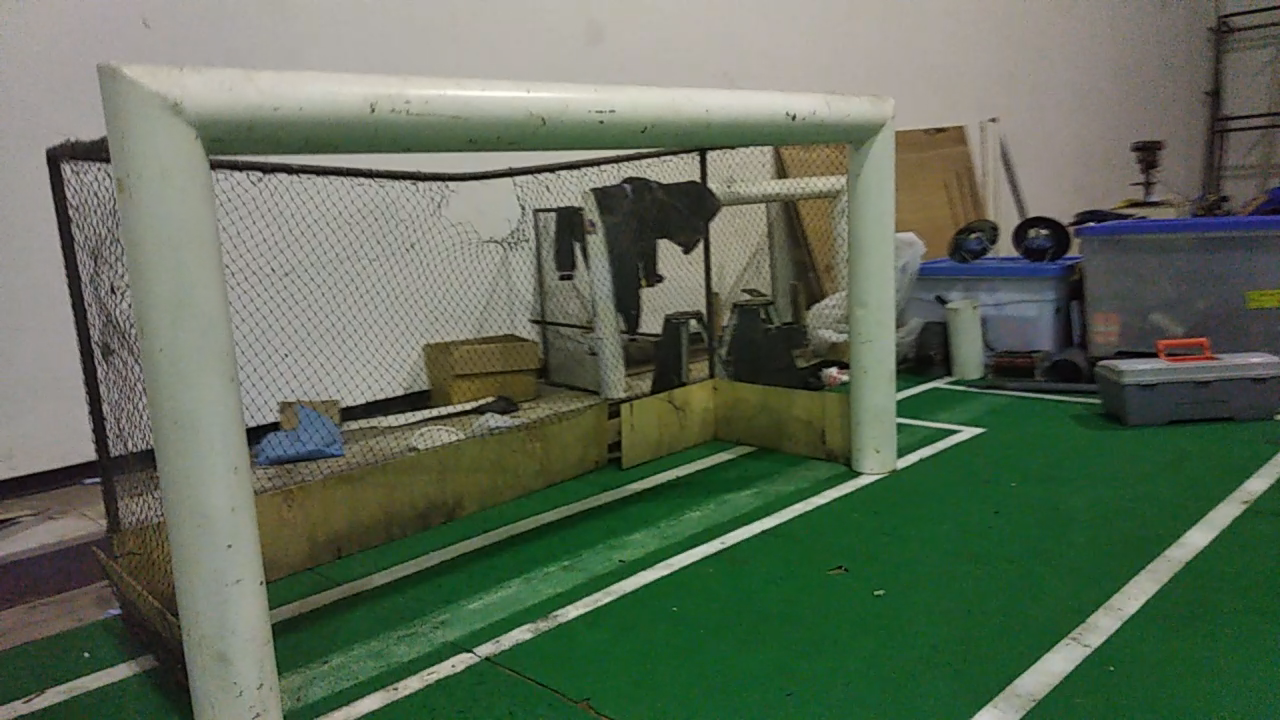gawang: (90, 45, 906, 706)
